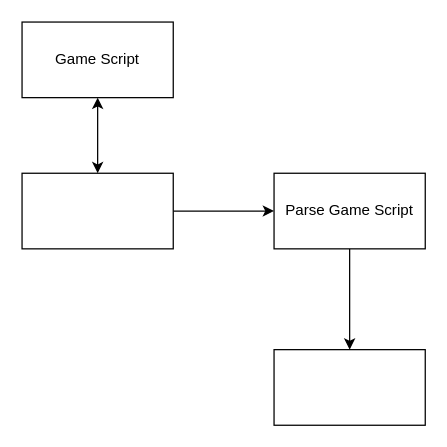
This 447x447 diagram has some shape labels left out. The centre of each missing label's shape, as x and y in pixels:
"Game Engine" goes at (97,210).
"Inquirer: Run Game" goes at (349,386).
